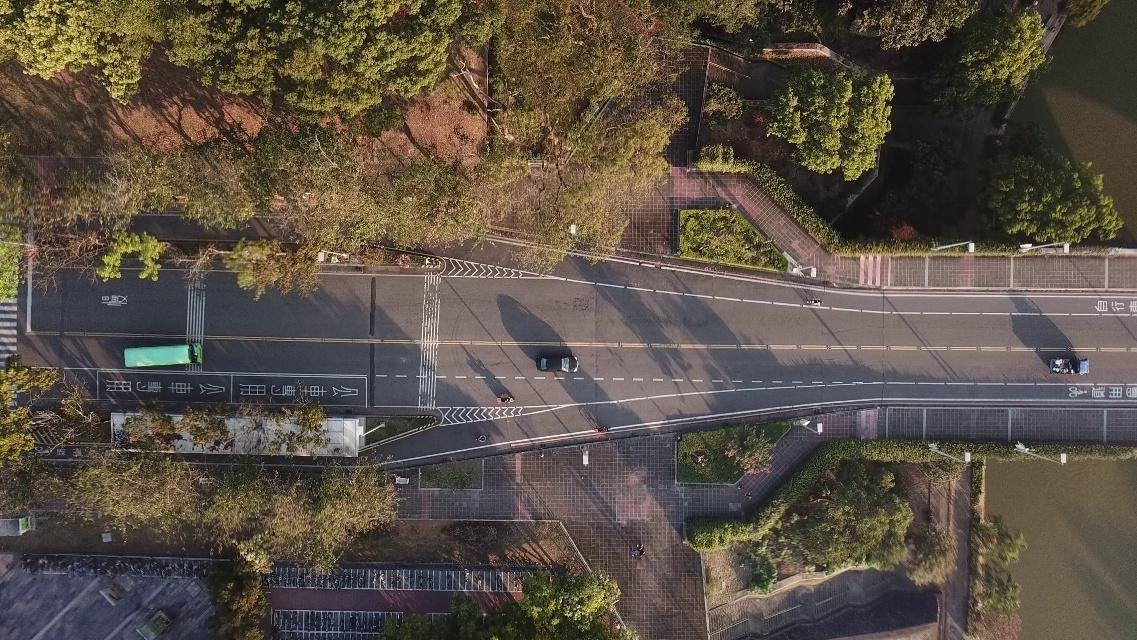Airplane: (126, 342, 203, 366)
Car: (538, 355, 580, 373)
